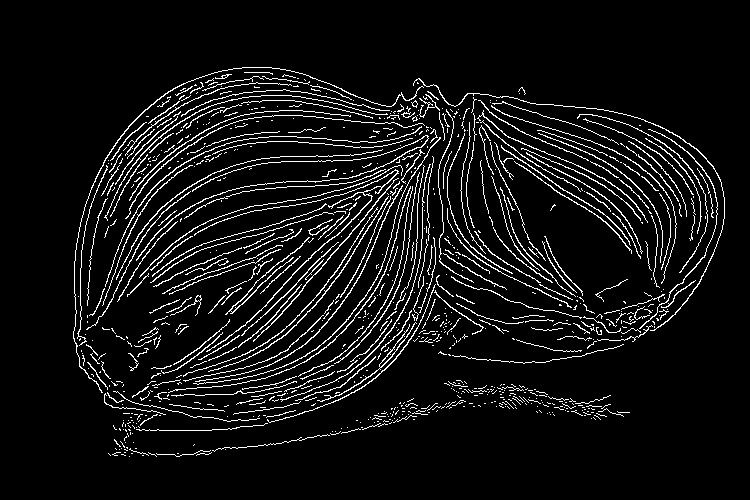red_onion: (58, 38, 452, 415), (417, 76, 728, 368)
